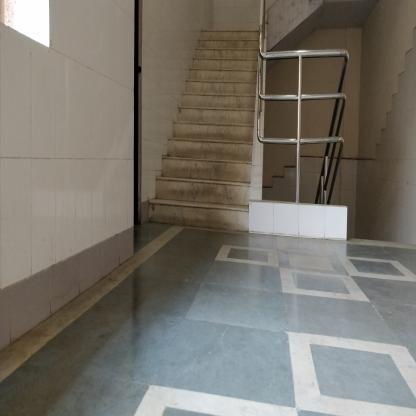stairs: (177, 114, 248, 241)
